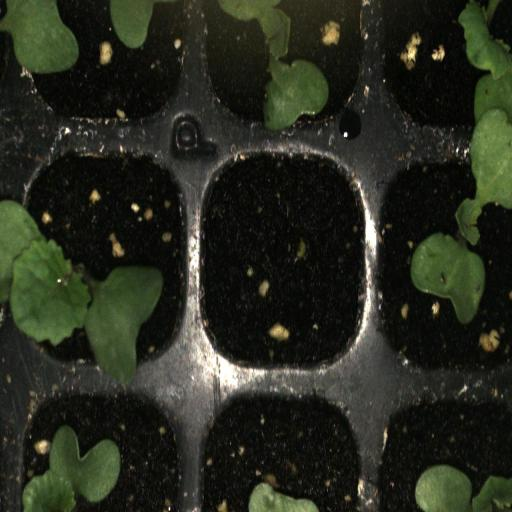Folha: (415, 464, 512, 512), (110, 0, 182, 49)
Germinacao: (6, 140, 194, 384), (381, 146, 512, 383), (198, 0, 373, 139), (6, 388, 194, 512)
